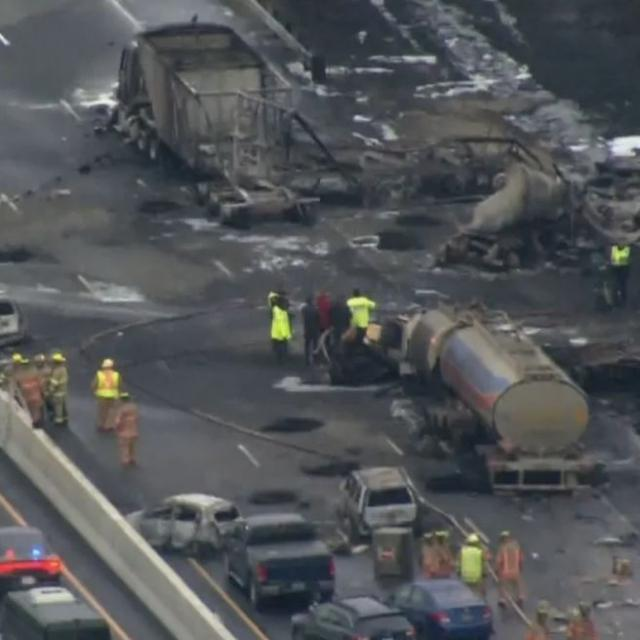traffic_incident: (382, 272, 622, 475), (112, 6, 342, 214), (374, 118, 584, 277)
